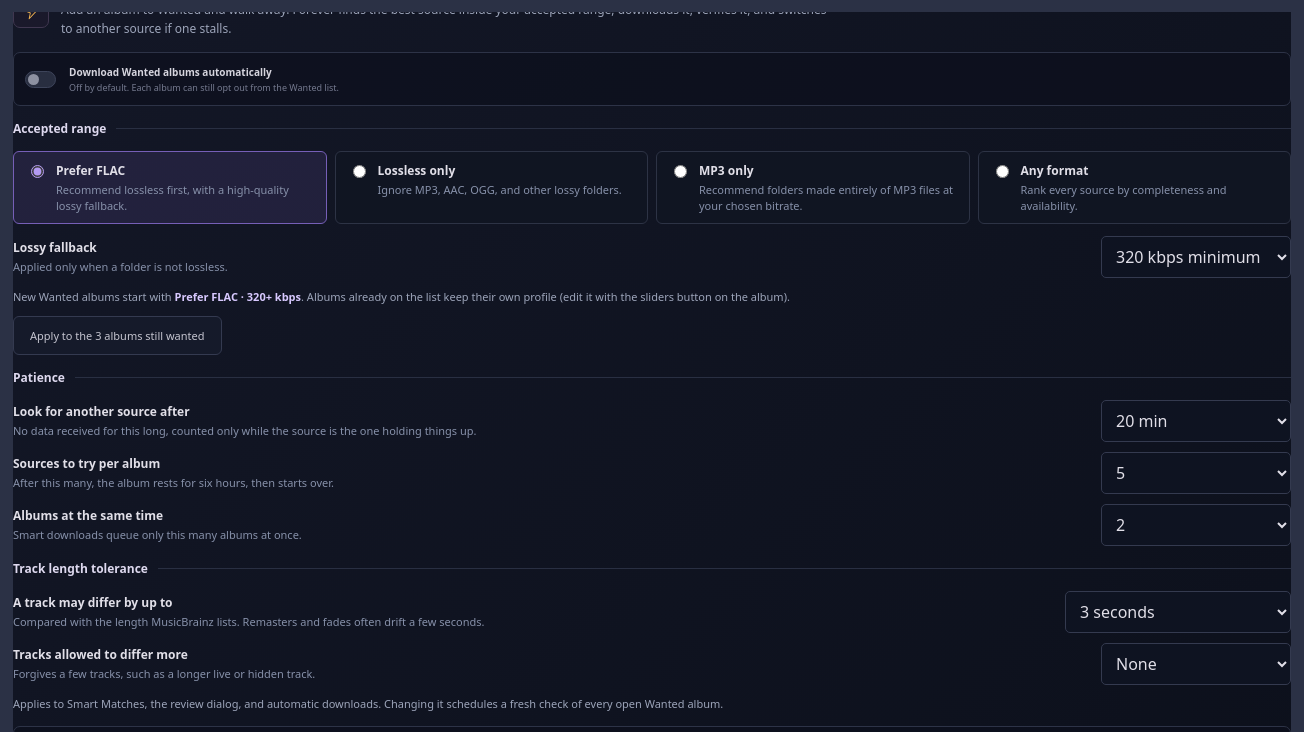
Test case: Smart downloads settings › copies the profile onto albums that are already wanted
The width and height of the screenshot is (1304, 732).
(page scrolled)
Step 1. Click the button "Apply to the 3 albums still wanted" → (117, 335), box [13,316,222,355]
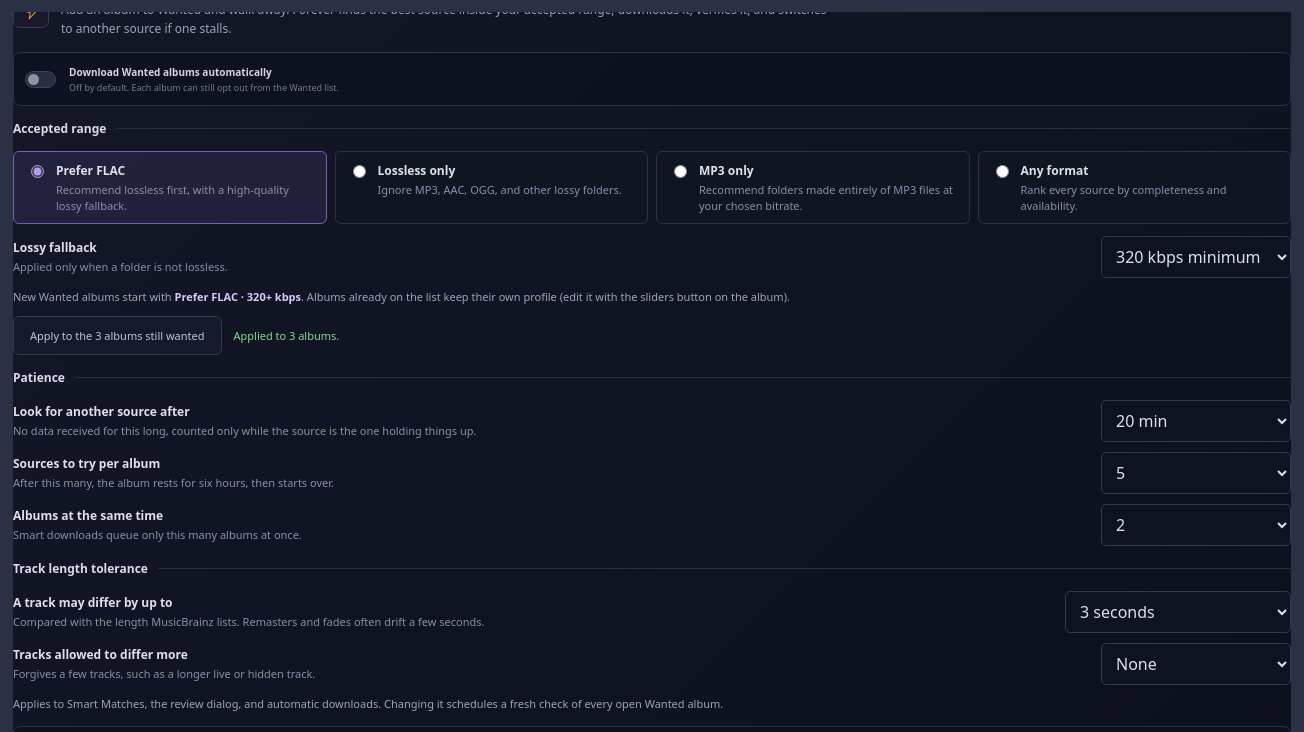
Check: the message reads "Applied to 3 albums.", box [234,328,339,343]
